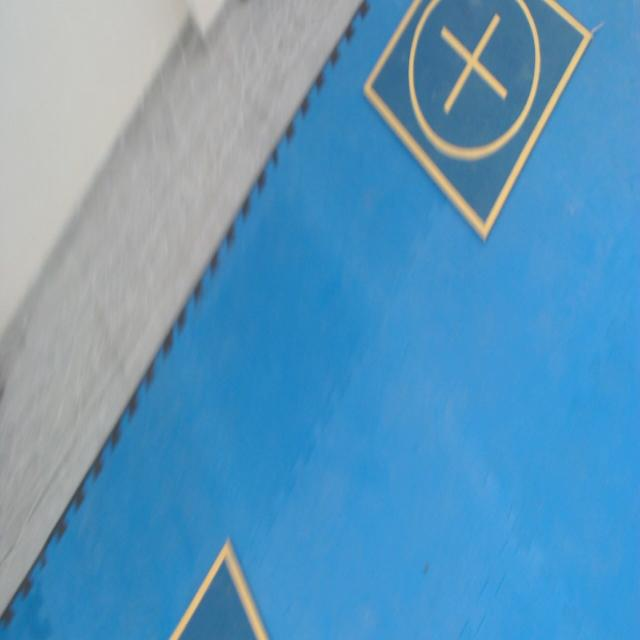base_pouso: (362, 0, 594, 248), (168, 539, 275, 639)
